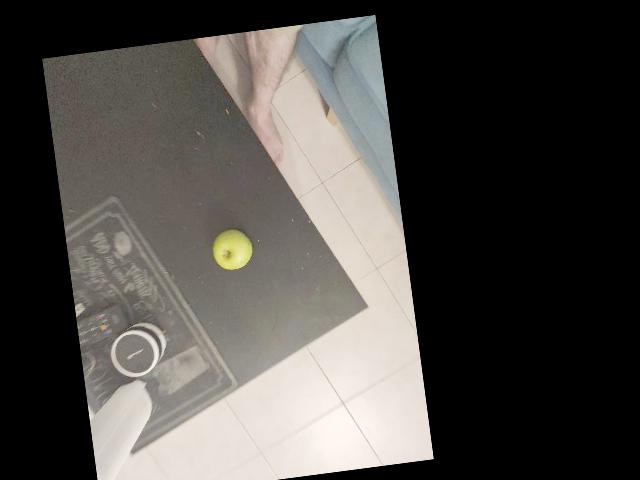apple: (282, 279, 333, 330)
